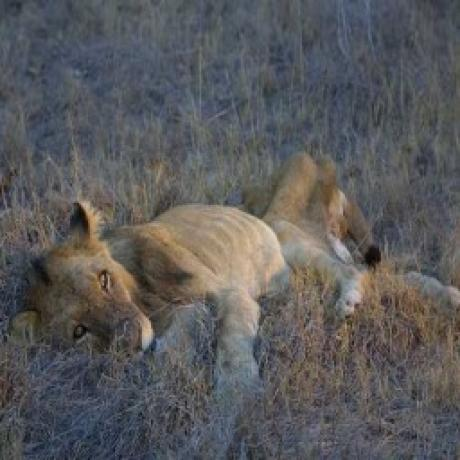Lion: (12, 154, 374, 366)
